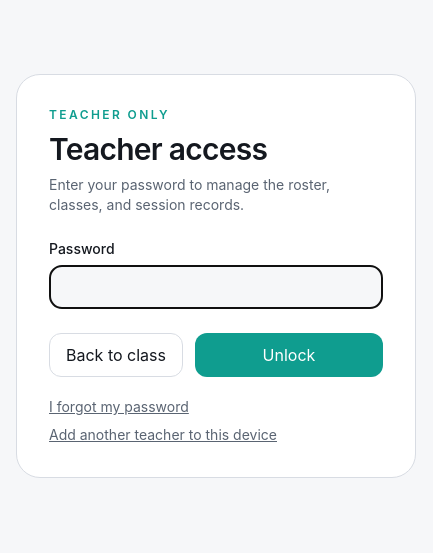
Test: teacher gate › offers the recovery path
Click the button "I forgot my password": [119, 407] box [49, 397, 189, 417]
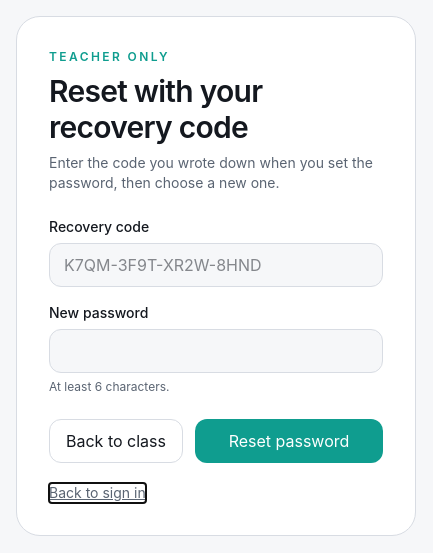
Result: the field labelled "Recovery code" is shown at [49, 243, 383, 287]
